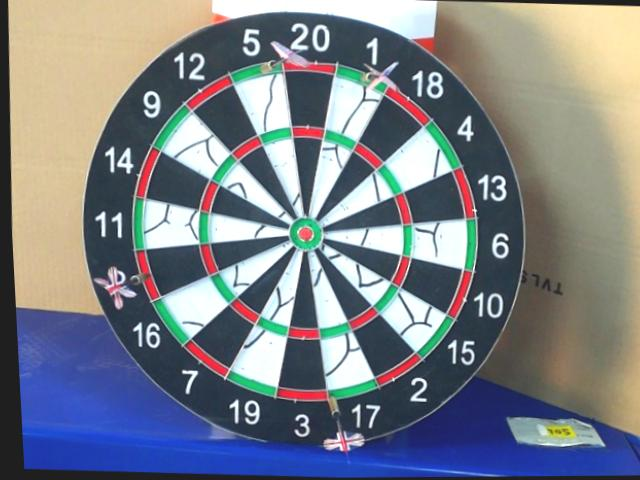double_1: (345, 71, 389, 91)
double_17: (328, 379, 378, 399)
double_5: (239, 62, 277, 79)
double_8: (137, 252, 161, 302)
